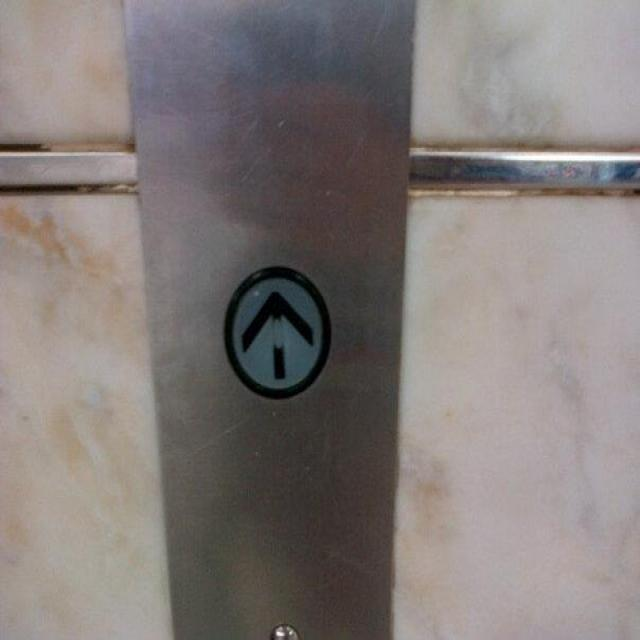up: (220, 262, 332, 402)
